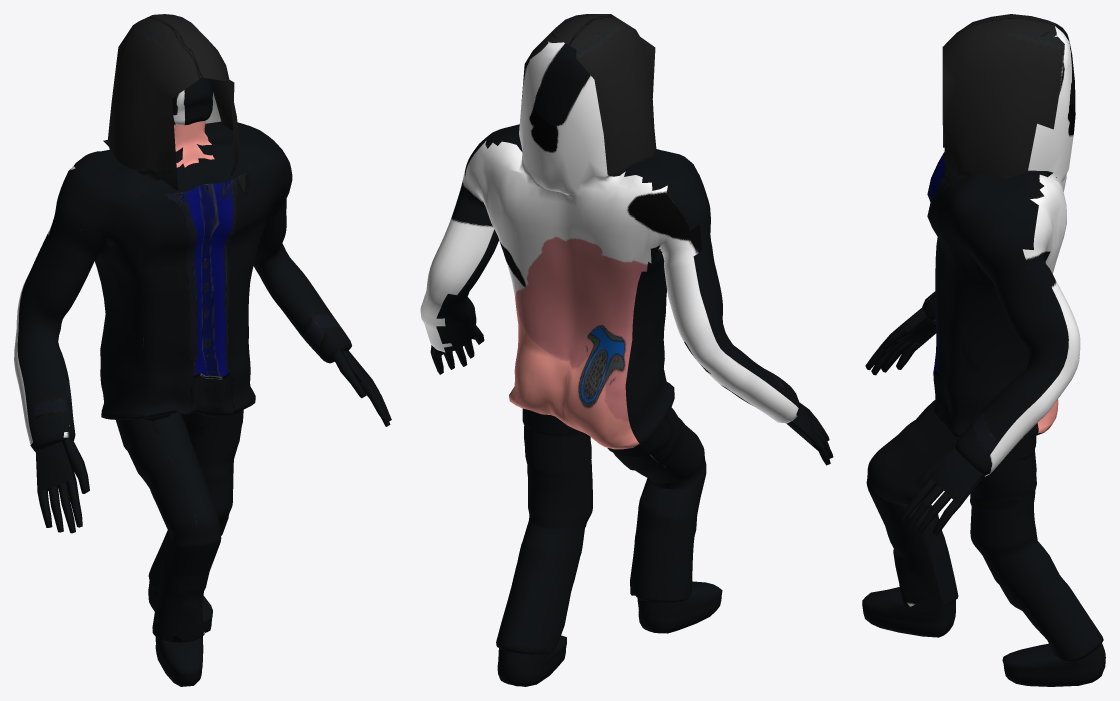
The model's file is keyFrame01.obj.
3 renders of one model, left to right at view 1: azimuth 30°, elevation 25°; view 2: azimuth 150°, elevation 25°; view 3: azimuth 270°, elevation 25°, orthographic. The views are drawn at different scales.
Visible parts, largest first — view 1: pasted__polySurface71 group4; view 2: pasted__polySurface71 group4; view 3: pasted__polySurface71 group4.
Boxes of the visible parts, x1,y1,x2,y2 form: pasted__polySurface71 group4: [14, 14, 391, 686]; pasted__polySurface71 group4: [420, 14, 833, 686]; pasted__polySurface71 group4: [862, 14, 1105, 686].
Bounding box in the file's own units: 7.68 × 12.66 × 4.32.
1 material, 1 textured.
